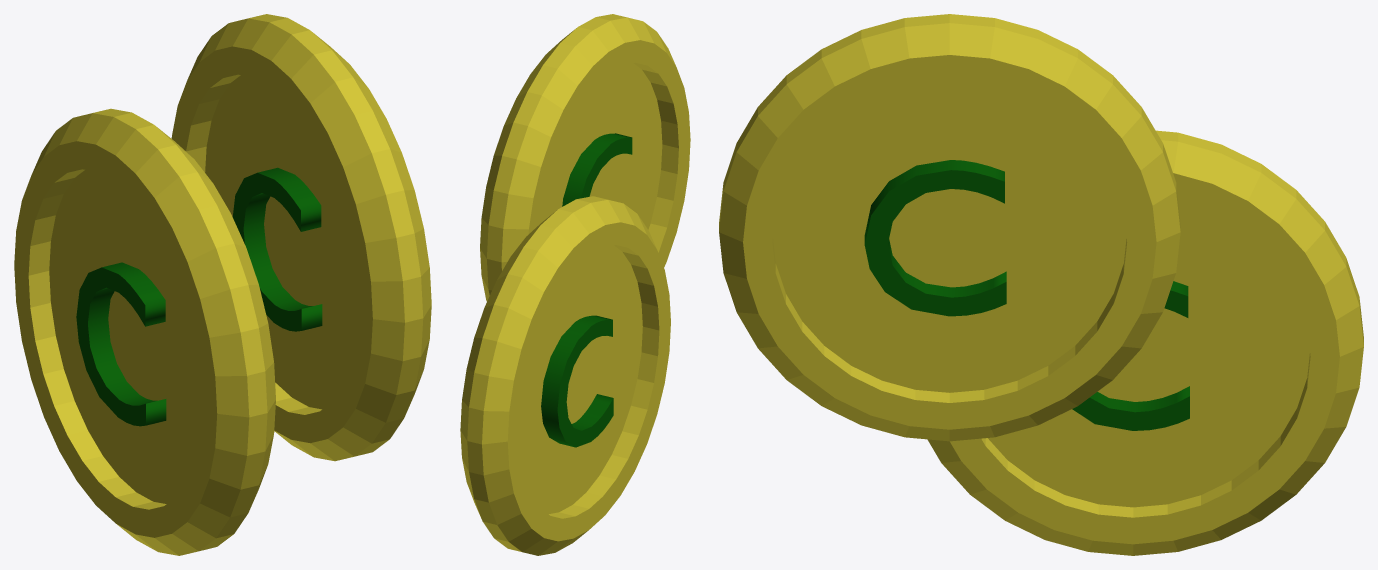
File: DoubleCoin.fbx
The picture shows the model from 3 angles, left to right: view 1: azimuth 30°, elevation 25°; view 2: azimuth 150°, elevation 25°; view 3: azimuth 270°, elevation 25°; orthographic projection. The views are drawn at different scales.
Parts seen in each view (by area): view 1: Cylinder.001, TextF.001, TextF.002; view 2: Cylinder.001, TextF.001, TextF.002; view 3: Cylinder.001, TextF.003, TextF.
Part boxes in pixels (left/top/right/bottom): Cylinder.001: left=14, top=14, right=431, bottom=555; TextF.001: left=76, top=262, right=166, bottom=426; TextF.002: left=232, top=167, right=322, bottom=331; Cylinder.001: left=460, top=14, right=690, bottom=555; TextF.001: left=541, top=315, right=613, bottom=447; TextF.002: left=562, top=133, right=632, bottom=206; Cylinder.001: left=719, top=14, right=1363, bottom=555; TextF.003: left=864, top=160, right=1006, bottom=316; TextF: left=1072, top=281, right=1189, bottom=430.
Bounding box in the file's own units: 63.49 × 270 × 279.
